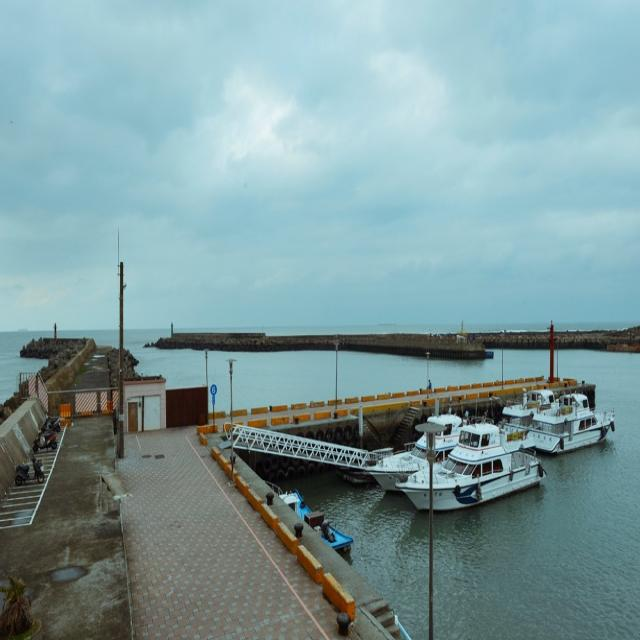cargoship: (376, 409, 536, 511), (508, 382, 615, 452)
